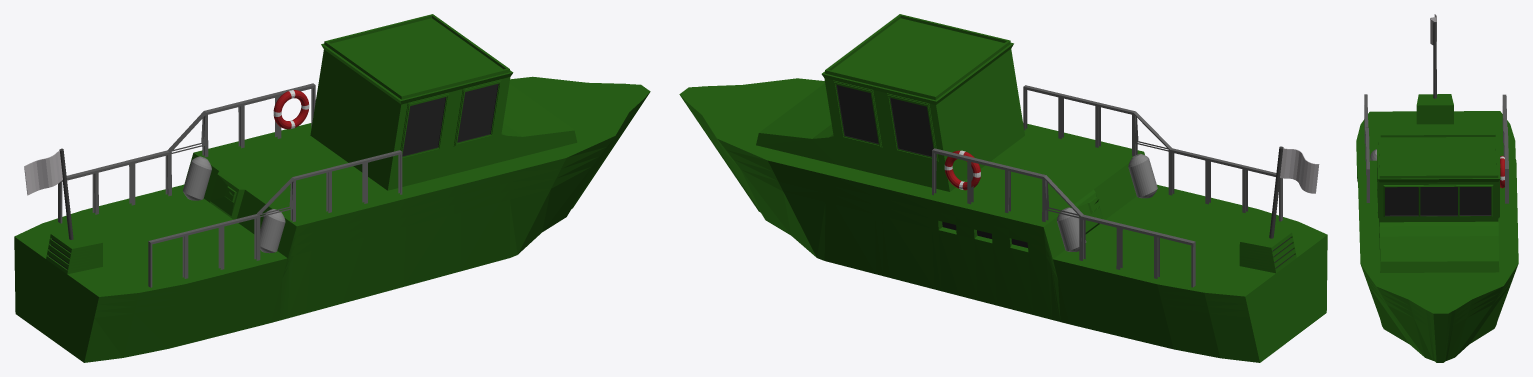
The model's file is greenboat.dae.
3 renders of one model, left to right at view 1: azimuth 30°, elevation 25°; view 2: azimuth 150°, elevation 25°; view 3: azimuth 270°, elevation 25°, orthographic. The views are drawn at different scales.
Visible parts, largest first — view 1: Boat, Cube.001, Cube.002, Cylinder.002, Cylinder, Cylinder.001, Torus; view 2: Boat, Cube.002, Cube.001, Cylinder.002, Cylinder.001, Cylinder, Torus; view 3: Boat, Cube.002, Cube.001, Cylinder.002, Torus.
Boxes of the visible parts, bbox=[...] form: Boat: bbox=[14, 14, 650, 362]; Cube.001: bbox=[148, 150, 402, 287]; Cube.002: bbox=[58, 83, 315, 223]; Cylinder.002: bbox=[24, 148, 73, 239]; Cylinder: bbox=[183, 156, 211, 200]; Cylinder.001: bbox=[260, 209, 285, 253]; Torus: bbox=[273, 90, 309, 129]; Boat: bbox=[679, 14, 1327, 362]; Cube.002: bbox=[932, 148, 1195, 287]; Cube.001: bbox=[1023, 85, 1282, 221]; Cylinder.002: bbox=[1269, 146, 1319, 238]; Cylinder.001: bbox=[1128, 153, 1157, 198]; Cylinder: bbox=[1057, 207, 1086, 251]; Torus: bbox=[944, 150, 980, 190]; Boat: bbox=[1356, 94, 1518, 362]; Cube.002: bbox=[1502, 94, 1508, 203]; Cube.001: bbox=[1364, 94, 1369, 202]; Cylinder.002: bbox=[1430, 14, 1436, 98]; Torus: bbox=[1500, 155, 1504, 188].
Size of the model in its own units: 8.54 by 2.45 by 2.5.
